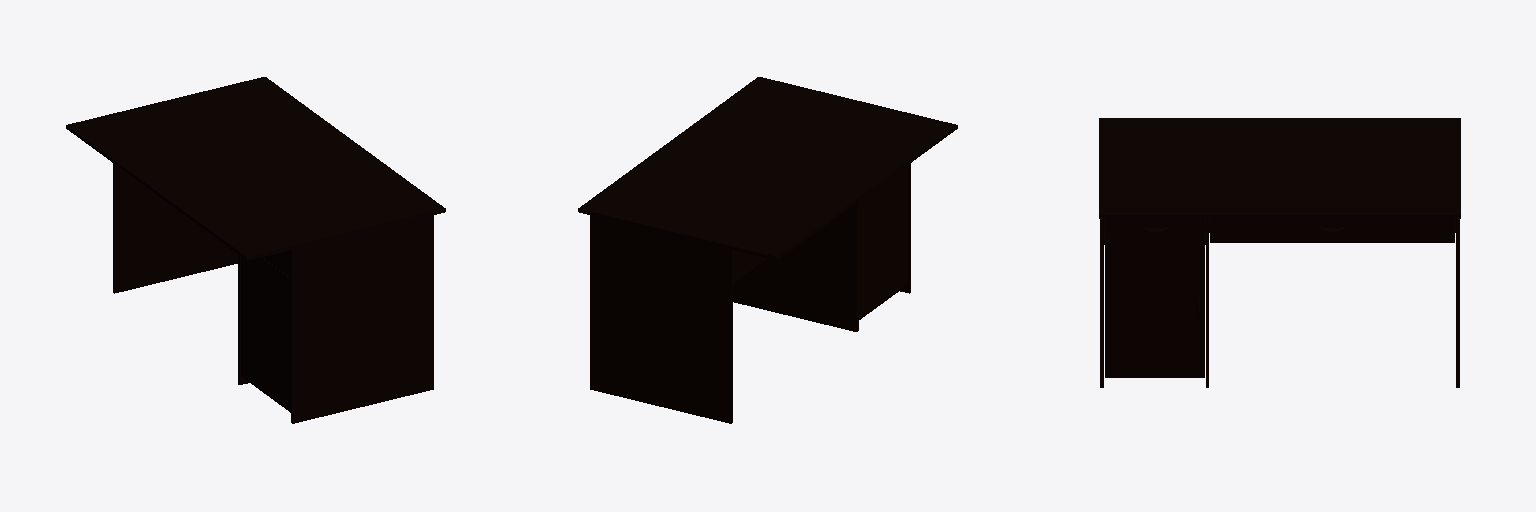
The model's file is Workstation.obj.
3 views of the same model, side by side, from view 1: azimuth 30°, elevation 25°; view 2: azimuth 150°, elevation 25°; view 3: azimuth 270°, elevation 25° (orthographic).
Parts seen in each view (by area): view 1: Workstation; view 2: Workstation; view 3: Workstation.
Boxes of the visible parts, x1=… form: Workstation: x1=66, y1=77, x2=445, y2=423; Workstation: x1=578, y1=77, x2=957, y2=423; Workstation: x1=1099, y1=118, x2=1460, y2=387.
Size of the model in its own units: 0.7 by 0.6 by 1.1.